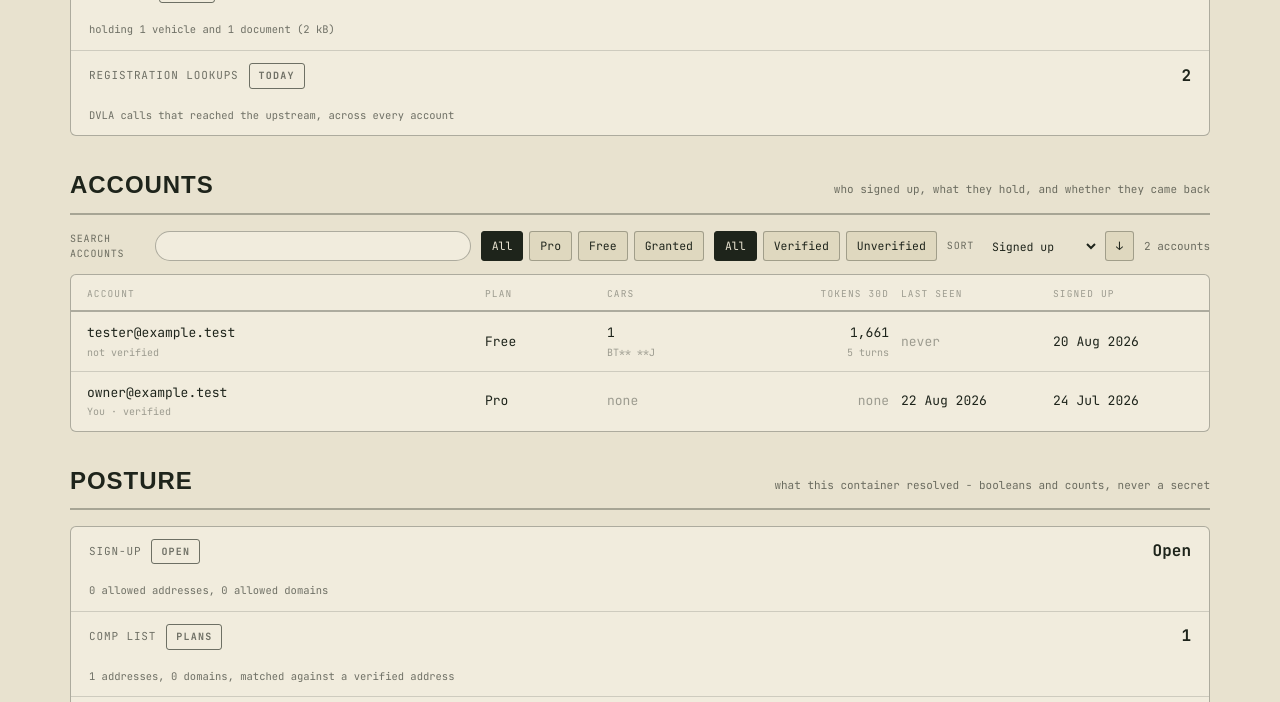
Test: the admin page › hides the plan control from a principal holding only admin:read
(page scrolled)
Click the row named "Open tester@example.test": point(640, 342) [71,312,1209,372]
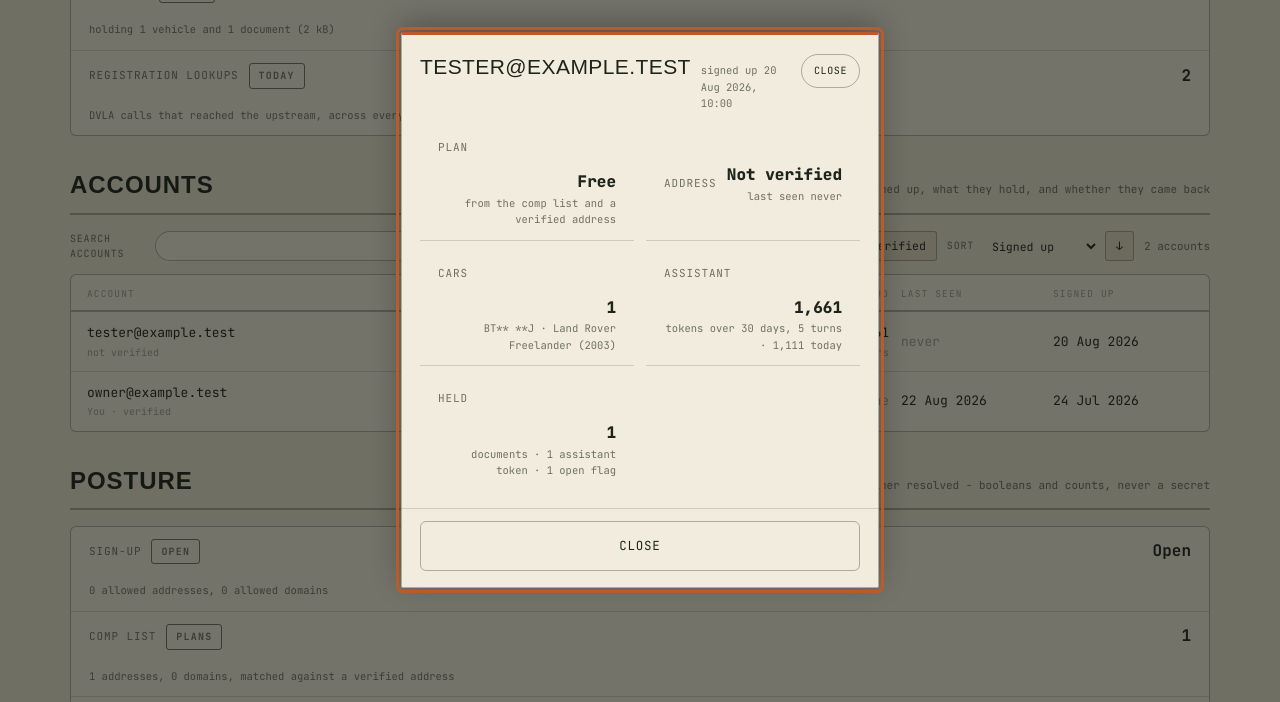
Expected: the text "BT** **J · Land Rover Freelander (2003)" is shown, [484,321,616,352]
